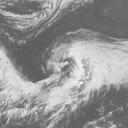cyclone: (45, 36, 101, 83)
